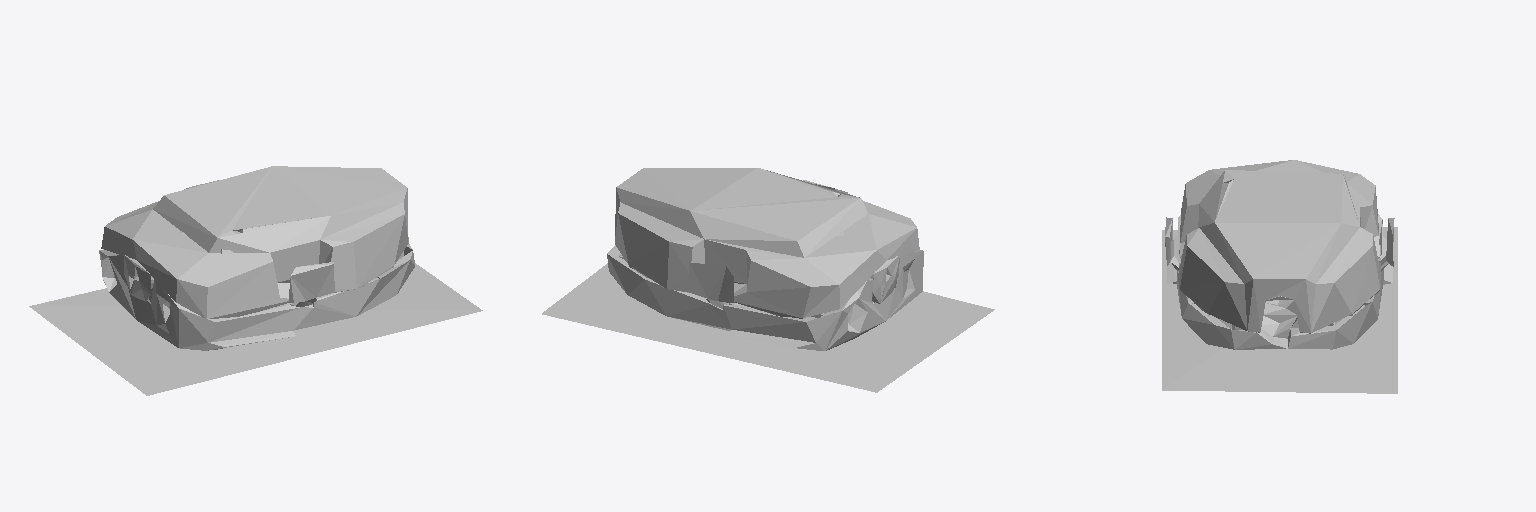
The model's file is main insertion link.OBJ.
3 views of the same model, side by side, from view 1: azimuth 30°, elevation 25°; view 2: azimuth 150°, elevation 25°; view 3: azimuth 270°, elevation 25° (orthographic).
Visible parts, largest first — view 1: /ambf/env/psm2/main_insertion_link_/ambf/env/psm2/main_insertion; view 2: /ambf/env/psm2/main_insertion_link_/ambf/env/psm2/main_insertion; view 3: /ambf/env/psm2/main_insertion_link_/ambf/env/psm2/main_insertion.
Part boxes in pixels (left/top/right/bottom): /ambf/env/psm2/main_insertion_link_/ambf/env/psm2/main_insertion: left=29, top=166, right=482, bottom=395; /ambf/env/psm2/main_insertion_link_/ambf/env/psm2/main_insertion: left=542, top=168, right=994, bottom=392; /ambf/env/psm2/main_insertion_link_/ambf/env/psm2/main_insertion: left=1162, top=160, right=1397, bottom=393.
Size of the model in its own units: 0.1227 by 0.039 by 0.0747.